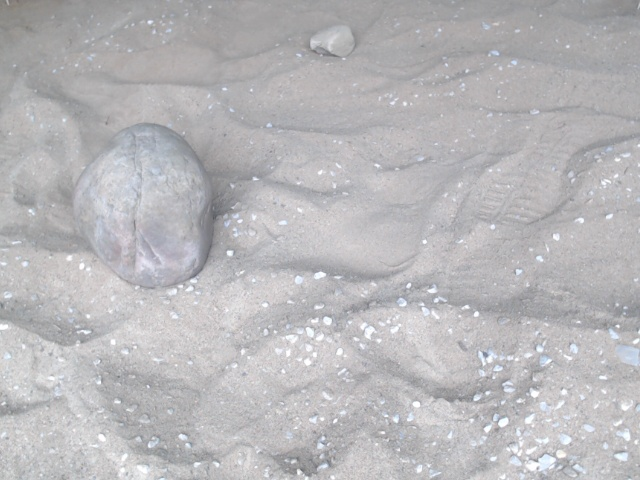rock: (66, 116, 220, 297), (303, 19, 360, 63)
